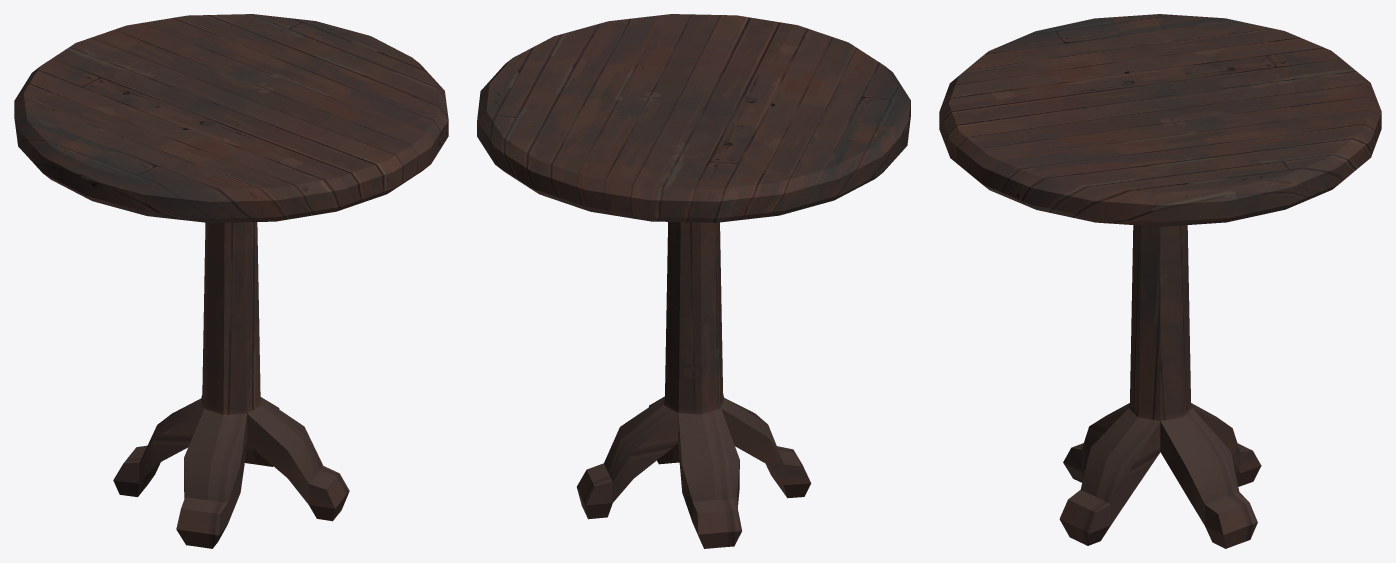
File: table_horror.glb
3 renders of one model, left to right at view 1: azimuth 30°, elevation 25°; view 2: azimuth 150°, elevation 25°; view 3: azimuth 270°, elevation 25°, orthographic.
Visible parts, largest first — view 1: table_geo1; view 2: table_geo1; view 3: table_geo1.
Boxes of the visible parts, <box> form: table_geo1: <box>14,14,448,548</box>; table_geo1: <box>477,14,910,548</box>; table_geo1: <box>939,14,1381,548</box>.
Bounding box in the file's own units: 0.8075 × 0.8173 × 0.8075.
Materials: 1 (1 with a texture image).
